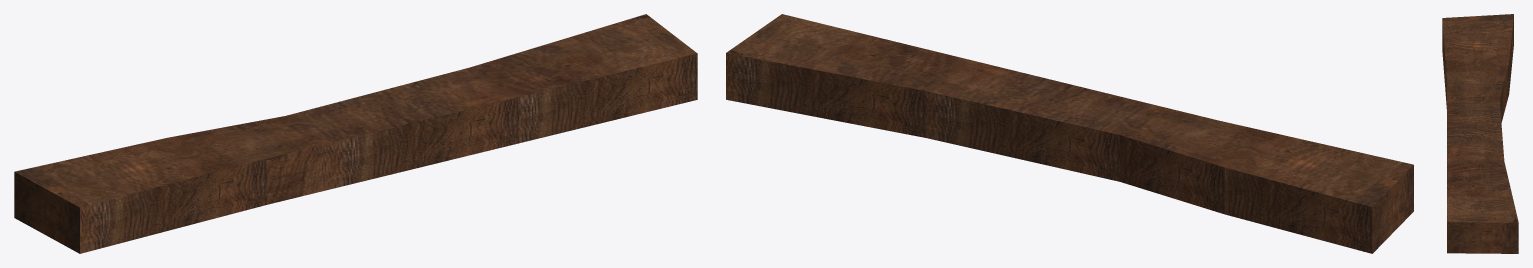
The model's file is wood.fbx.
3 views of the same model, side by side, from view 1: azimuth 30°, elevation 25°; view 2: azimuth 150°, elevation 25°; view 3: azimuth 270°, elevation 25° (orthographic). The views are drawn at different scales.
Visible parts, largest first — view 1: wood; view 2: wood; view 3: wood.
Boxes of the visible parts, x1,y1,x2,y2 form: wood: (14, 14, 697, 253); wood: (726, 14, 1413, 253); wood: (1442, 14, 1518, 253).
Bounding box in the file's own units: 42.92 × 2.99 × 6.65.
1 material, 1 textured.
